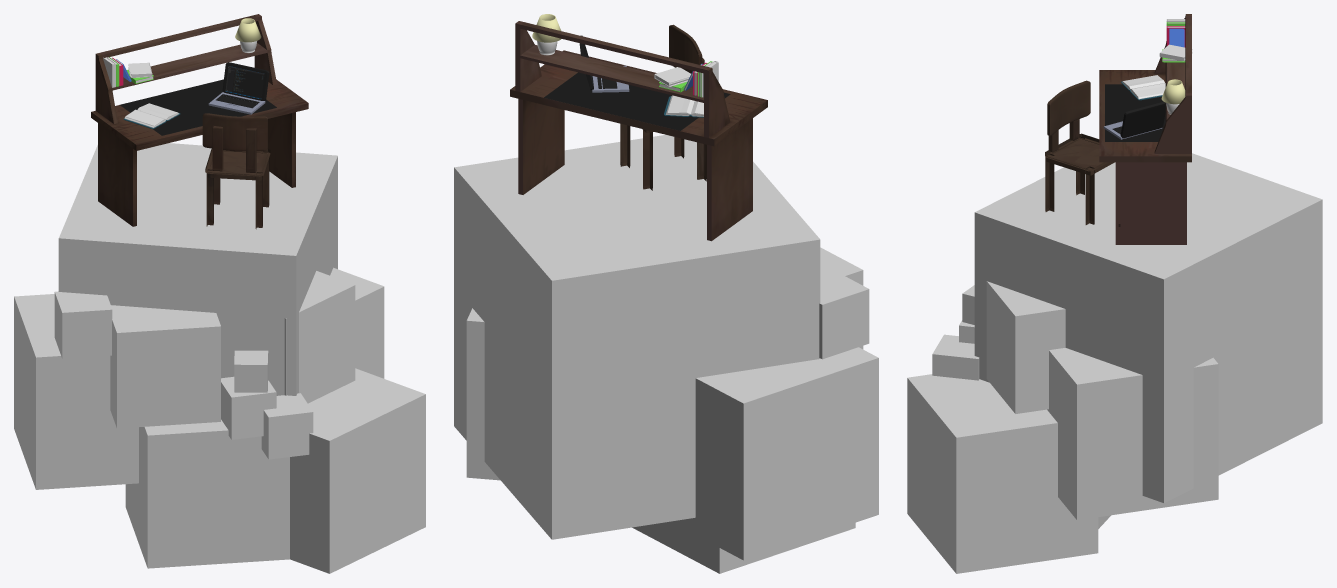
Rendered from desk_painted.gltf.
3 views of the same model, side by side, from view 1: azimuth 30°, elevation 25°; view 2: azimuth 150°, elevation 25°; view 3: azimuth 270°, elevation 25° (orthographic). The views are drawn at different scales.
Parts seen in each view (by area): view 1: Cube.017, desk, chair, Plane, Cube.004, Cube.005, Cube.001; view 2: Cube.017, desk, Plane, chair, Cube.005; view 3: Cube.017, desk, chair, Plane, Cube.001, Cube.005.
Boxes of the visible parts, x1,y1,x2,y2 form: Cube.017: (14,143,425,573); desk: (91,14,308,226); chair: (202,113,270,229); Plane: (120,79,276,135); Cube.004: (225,66,264,98); Cube.005: (123,103,180,128); Cube.001: (222,62,269,100); Cube.017: (454,135,878,573); desk: (510,21,767,241); Plane: (544,72,730,130); chair: (620,24,706,190); Cube.005: (664,95,703,117); Cube.017: (907,153,1322,573); desk: (1099,14,1191,244); chair: (1045,80,1114,224); Plane: (1105,84,1165,141); Cube.001: (1120,101,1165,138); Cube.005: (1121,75,1165,100).
Size of the model in its own units: 9.1 by 11.58 by 9.55.
15 materials, 3 textured.
